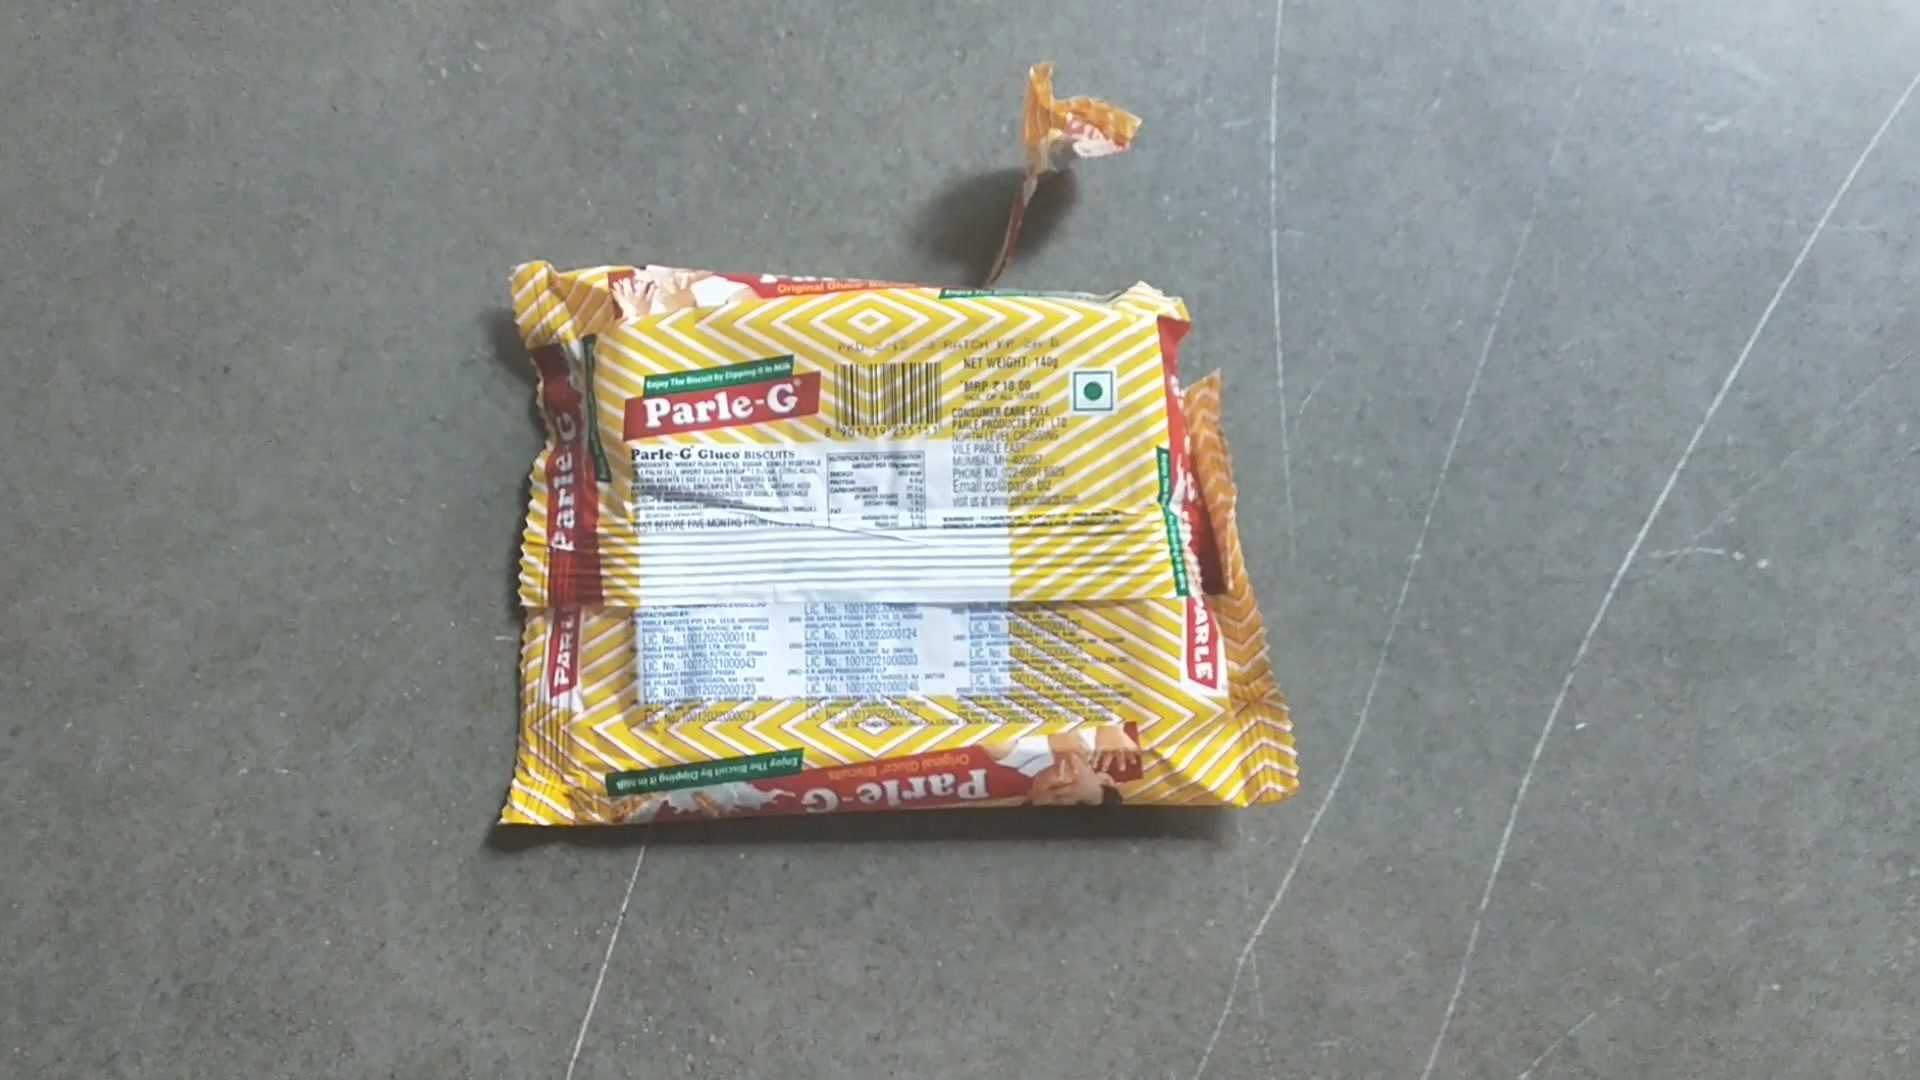parle-g-b: (543, 305, 1182, 799)
